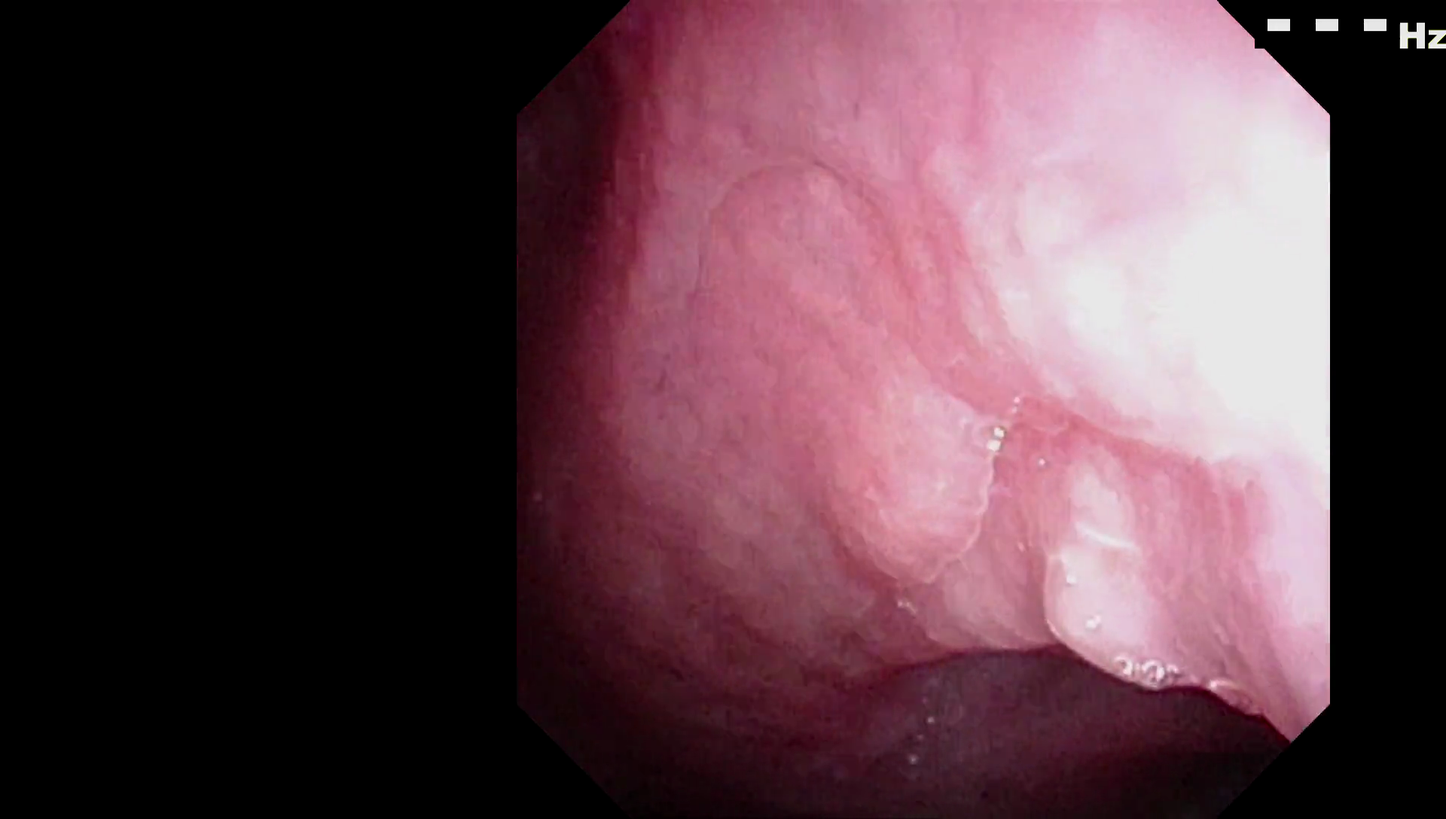close_wall: (870, 114, 1312, 561)
next: (967, 631, 1303, 815), (526, 635, 751, 811)
